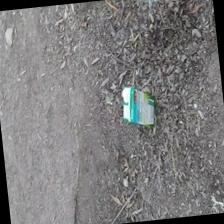Kertas: (122, 87, 153, 124)
